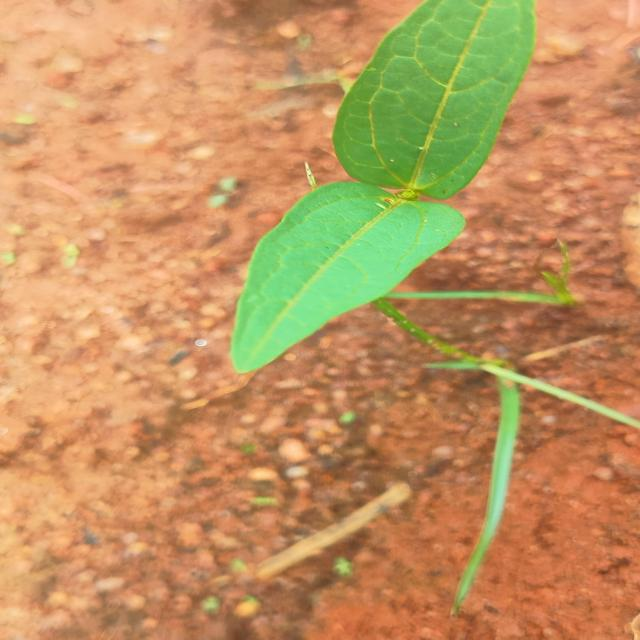Black gram_healthy: (228, 180, 470, 380), (323, 0, 537, 195)
